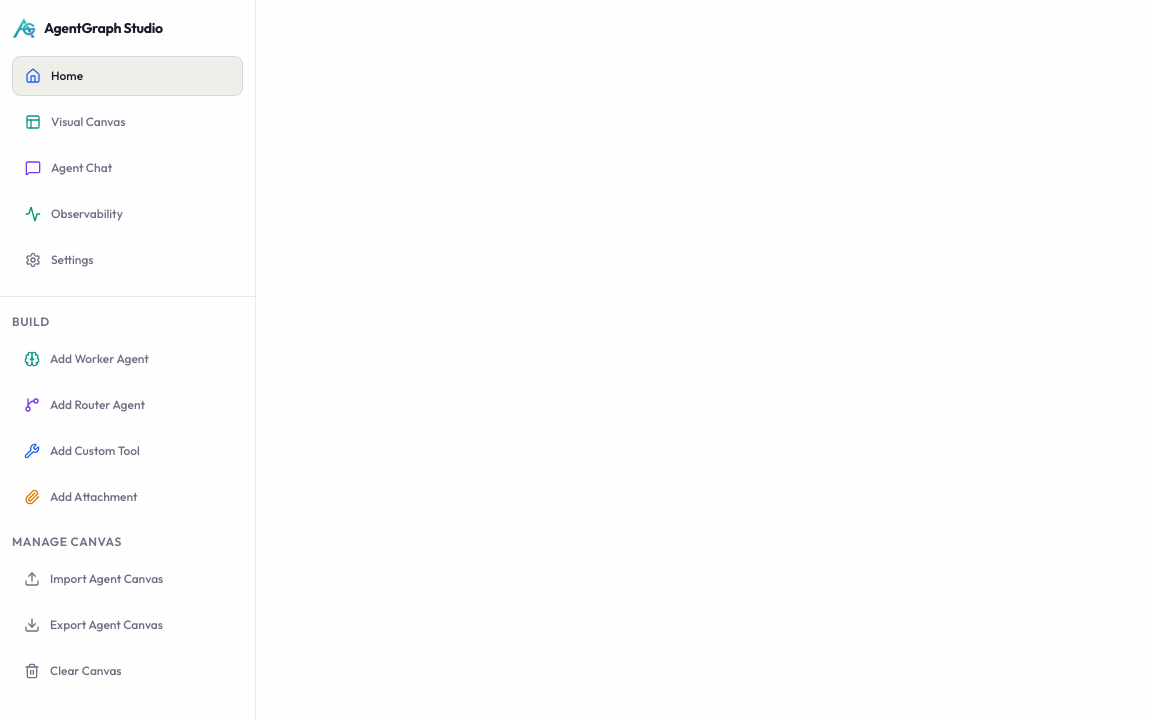
SidebarRail › unsaved changes guard › shows a save/discard/cancel dialog before leaving to Home with unsaved changes
What coordinates should you click on to do the following:
click the link "Home"
I would click on:
 (128, 76)
Its box is 12,56 -> 243,96.
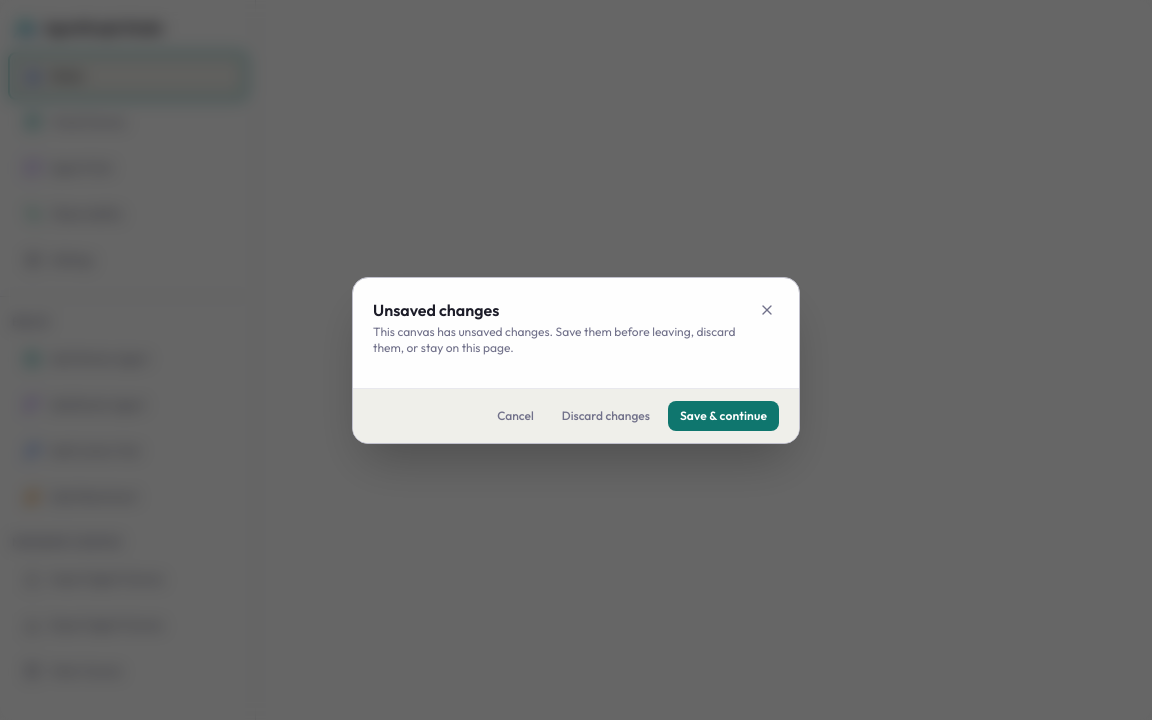
Now the dialog shows "Unsaved changes", box 373,300 -> 499,320
